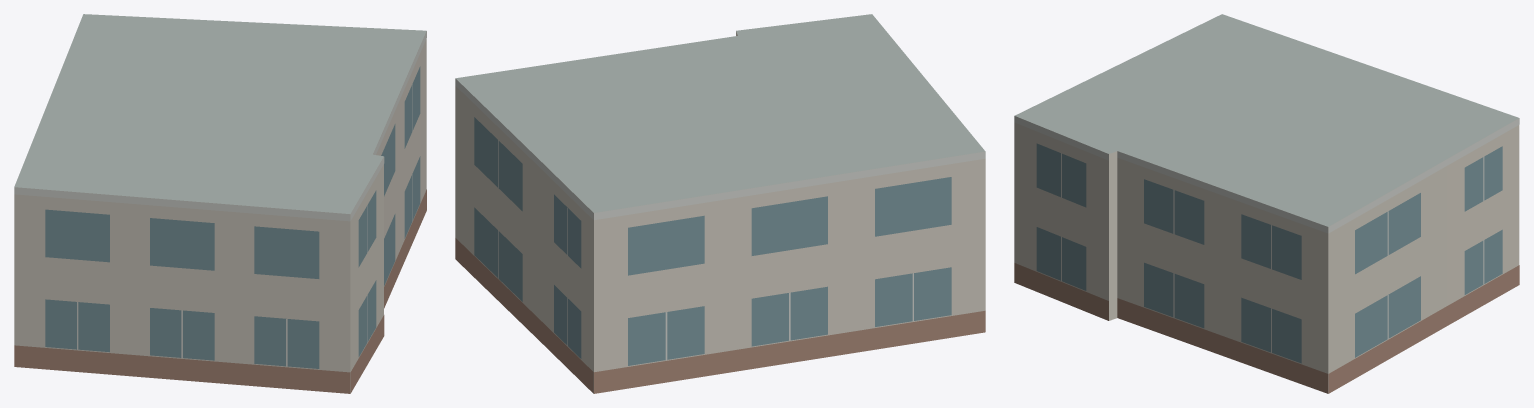
Rendered from survey-upis-33017199.glb.
3 renders of one model, left to right at view 1: azimuth 30°, elevation 25°; view 2: azimuth 150°, elevation 25°; view 3: azimuth 270°, elevation 25°, orthographic. The views are drawn at different scales.
Visible parts, largest first — view 1: survey-upis-33017199.tmp; view 2: survey-upis-33017199.tmp; view 3: survey-upis-33017199.tmp.
Boxes of the visible parts, left/top/right/bottom form: survey-upis-33017199.tmp: left=14, top=14, right=426, bottom=393; survey-upis-33017199.tmp: left=455, top=14, right=985, bottom=393; survey-upis-33017199.tmp: left=1014, top=14, right=1519, bottom=393.
Size of the model in its own units: 16.7 by 6.1 by 16.73.
